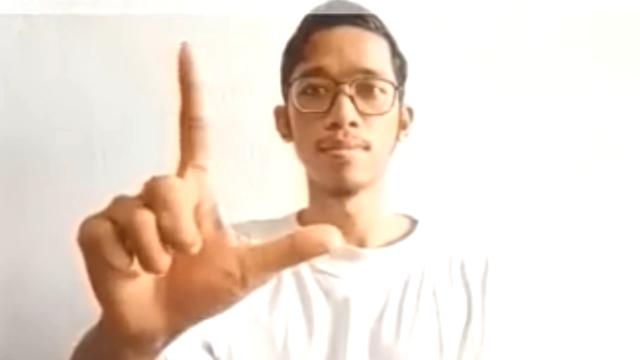L: (79, 39, 354, 337)
